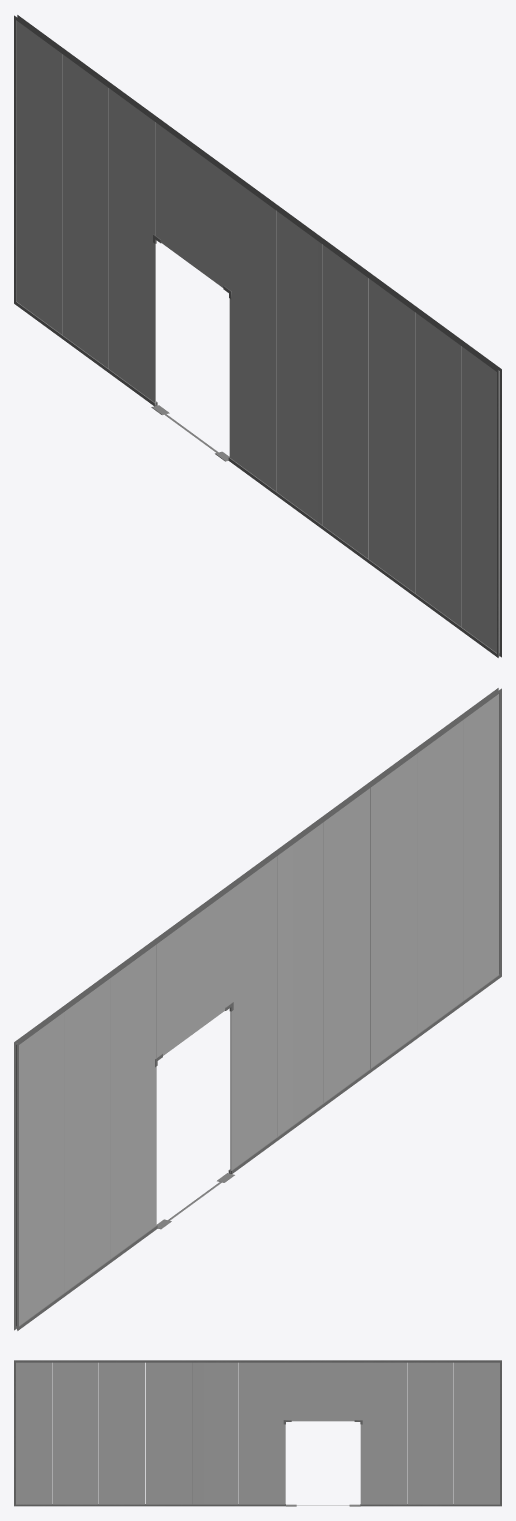
File: SM_StoreFront_Glass_1350.fbx
3 renders of one model, top to bottom at view 1: azimuth 30°, elevation 25°; view 2: azimuth 150°, elevation 25°; view 3: azimuth 270°, elevation 25°, orthographic. The views are drawn at different scales.
Parts seen in each view (by area): view 1: SM_StoreFront_Glass_1350_LOD0; view 2: SM_StoreFront_Glass_1350_LOD0; view 3: SM_StoreFront_Glass_1350_LOD0.
Boxes of the visible parts, bbox=[...] form: SM_StoreFront_Glass_1350_LOD0: bbox=[14, 15, 501, 657]; SM_StoreFront_Glass_1350_LOD0: bbox=[14, 688, 501, 1330]; SM_StoreFront_Glass_1350_LOD0: bbox=[14, 1360, 501, 1506].
Size of the model in its own units: 12.27 by 1310 by 430.
